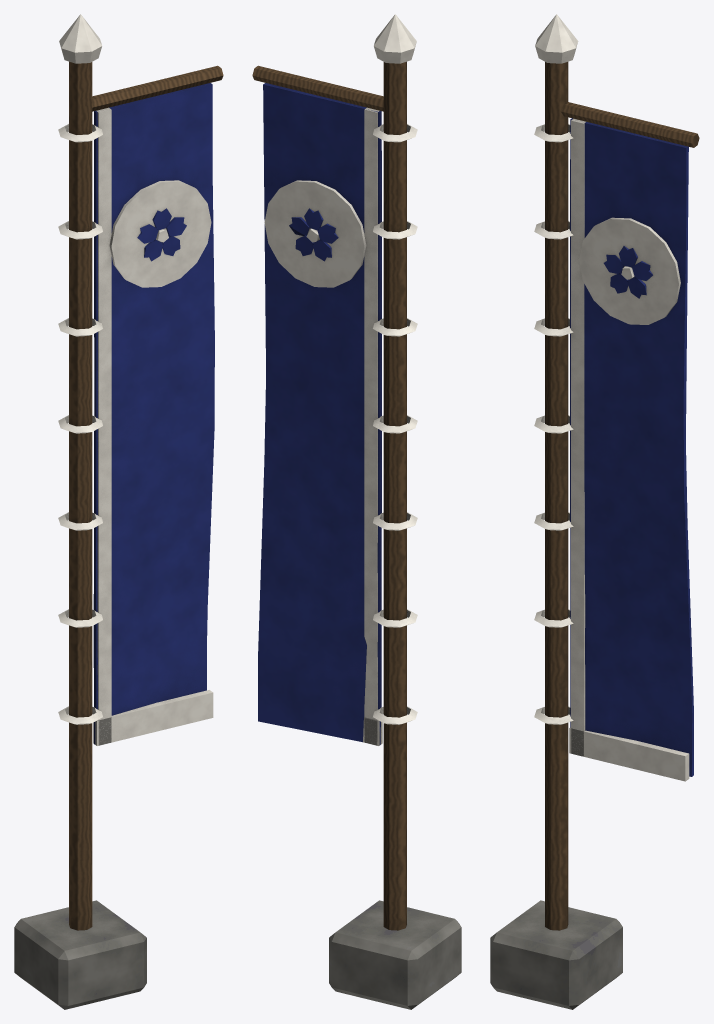
File: nobori_indigo.fbx
The picture shows the model from 3 angles, left to right: view 1: azimuth 30°, elevation 25°; view 2: azimuth 150°, elevation 25°; view 3: azimuth 330°, elevation 25°; orthographic projection.
Parts seen in each view (by area): view 1: nobori_indigo; view 2: nobori_indigo; view 3: nobori_indigo.
Part boxes in pixels (x1=…): nobori_indigo: x1=14, y1=14, x2=223, y2=1009; nobori_indigo: x1=252, y1=14, x2=461, y2=1009; nobori_indigo: x1=490, y1=14, x2=699, y2=1009.
Size of the model in its own units: 228 by 1150 by 110.
Materials: 1 (1 with a texture image).
